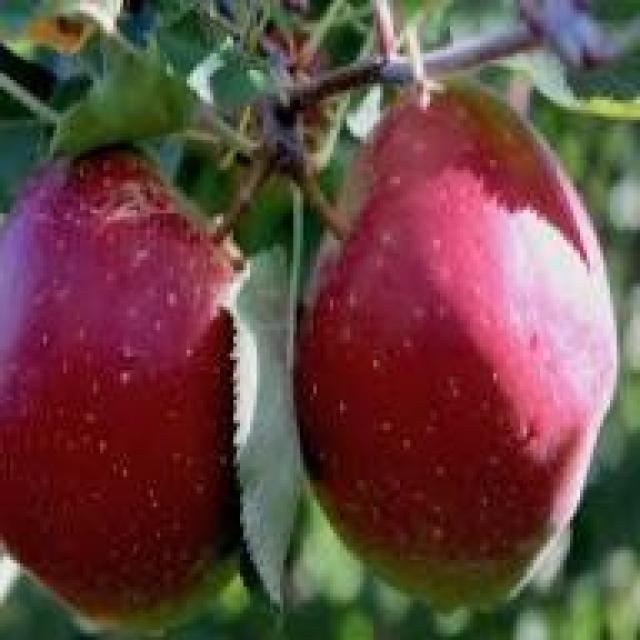apple: (300, 96, 630, 616), (7, 177, 256, 613)
